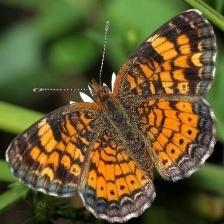butterfly: (7, 10, 217, 222)
